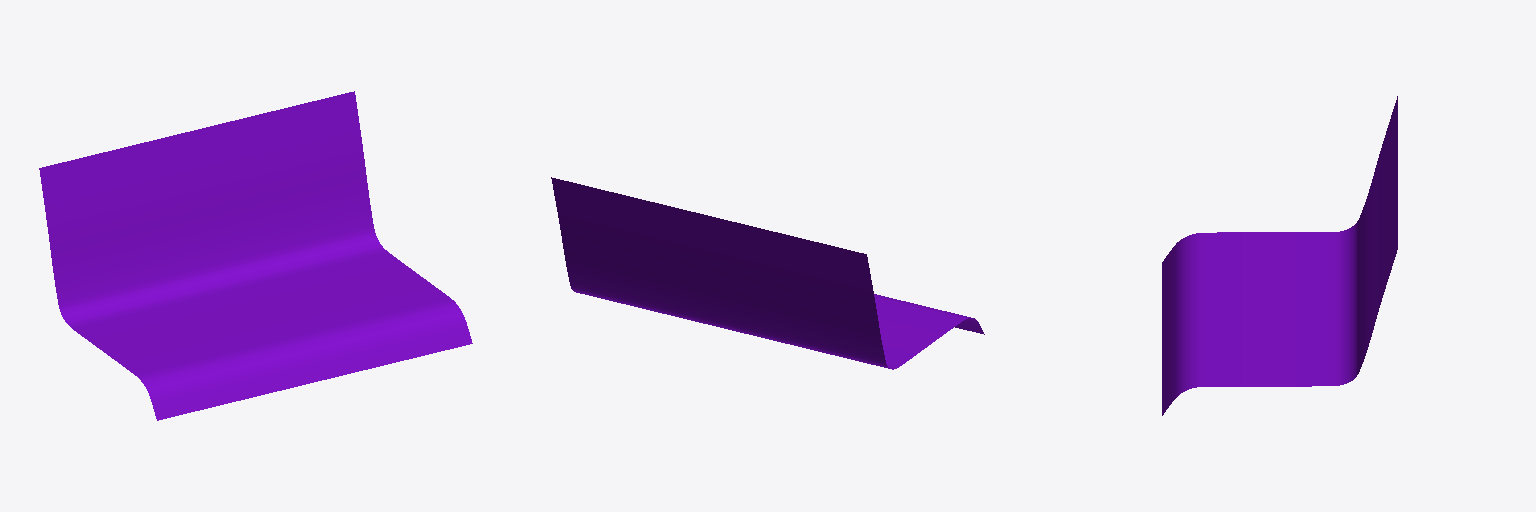
The model's file is CLH_ep2_cyc_wall.obj.
3 views of the same model, side by side, from view 1: azimuth 30°, elevation 25°; view 2: azimuth 150°, elevation 25°; view 3: azimuth 270°, elevation 25° (orthographic).
Visible parts, largest first — view 1: Studio_S; view 2: Studio_S; view 3: Studio_S.
Part boxes in pixels (x1,y1,x2,y2): Studio_S: (39, 91, 472, 420); Studio_S: (551, 177, 984, 369); Studio_S: (1162, 96, 1397, 415).
Bounding box in the file's own units: 6893 × 3474 × 4451.